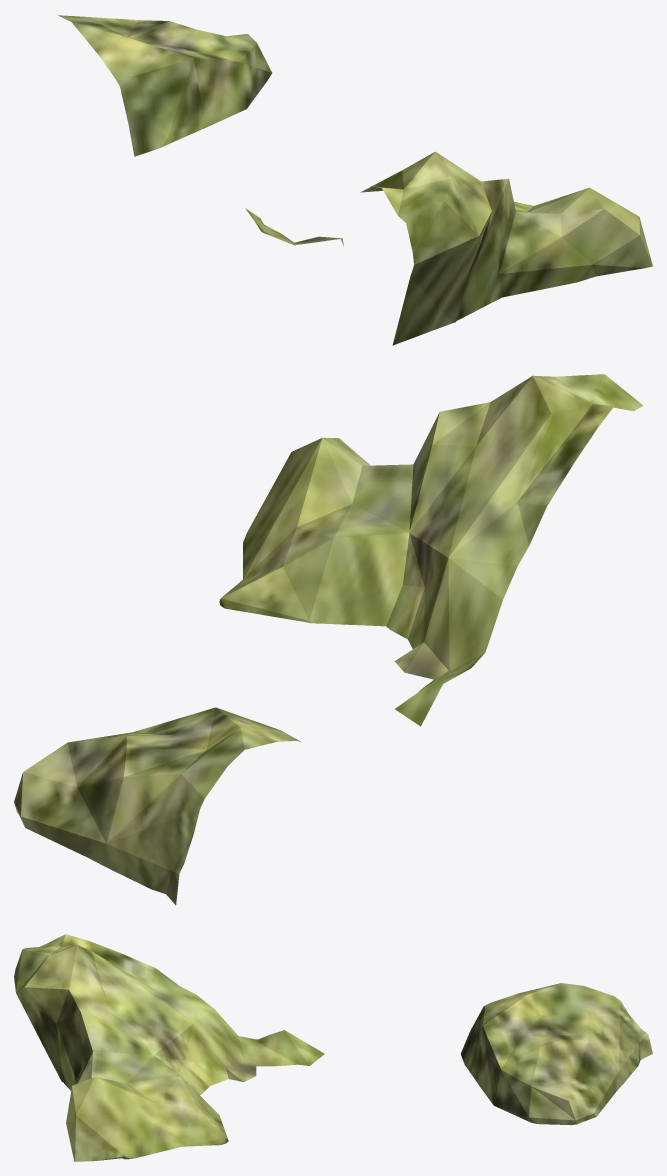
3 views of the same model, one above another, from view 1: azimuth 30°, elevation 25°; view 2: azimuth 150°, elevation 25°; view 3: azimuth 270°, elevation 25° (orthographic). The views are drawn at different scales.
Size of the model in its own units: 0.6765 by 0.3872 by 1.69.
1 material, 1 textured.
